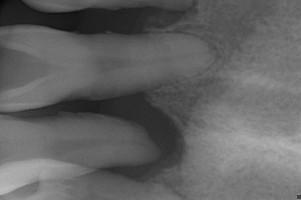Dental Caries: (99, 90, 185, 181), (76, 0, 200, 33)
